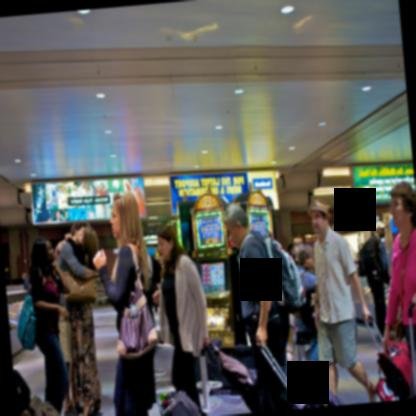backpack: (246, 229, 306, 316), (17, 291, 38, 349), (357, 241, 368, 278)
handbag: (118, 245, 159, 359), (218, 347, 252, 387), (18, 292, 36, 354), (63, 270, 97, 302), (299, 290, 316, 331)
suitcase: (13, 368, 63, 416), (378, 340, 409, 387), (298, 379, 344, 409), (160, 390, 202, 416), (409, 308, 416, 399)
